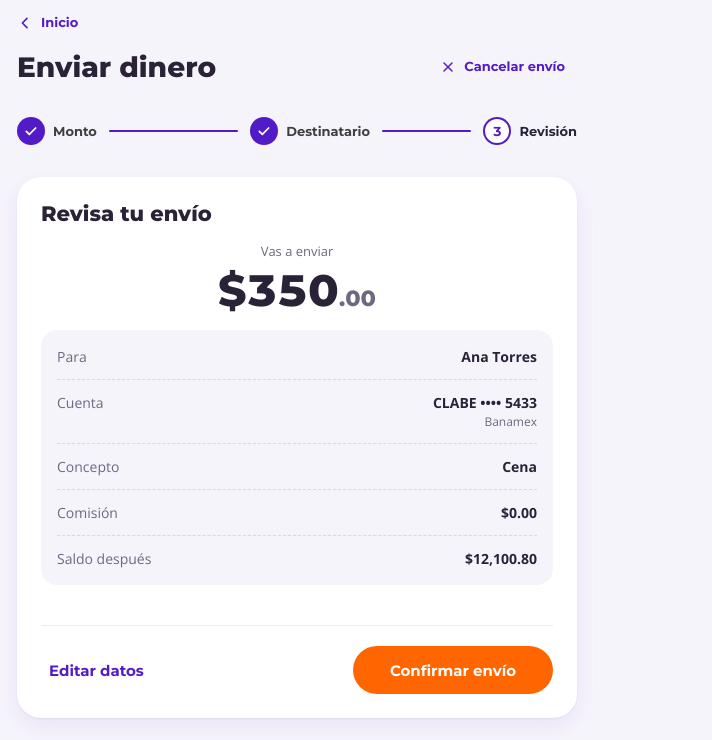
Test case: TransferConfirmation › hides the app bar, the stepper and Cancelar and shows the outcome on a failure
Click the button "Confirmar envío" at (453,670), box x1=353 y1=646 x2=553 y2=694
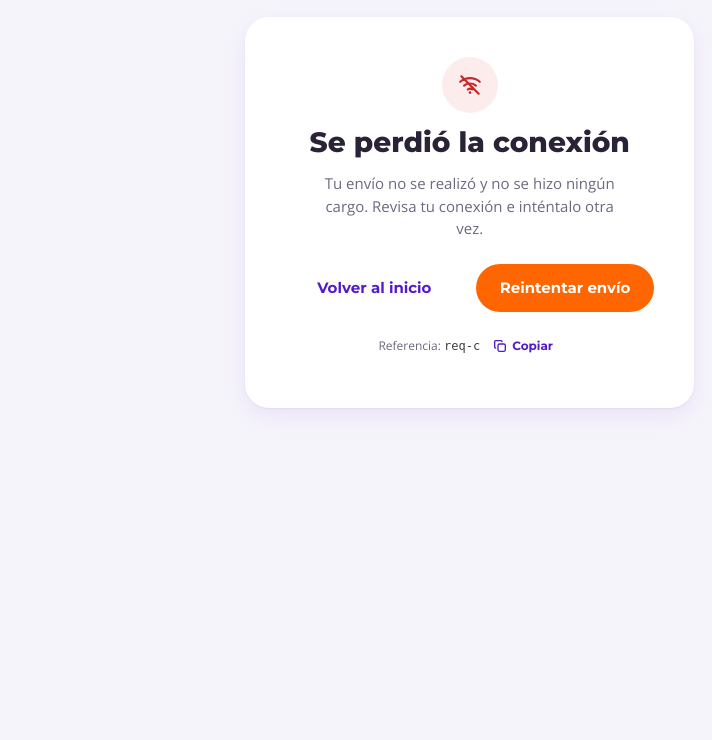
expect the link "Cancelar" is gone: met
expect the button "Confirmar envío" is gone: met
